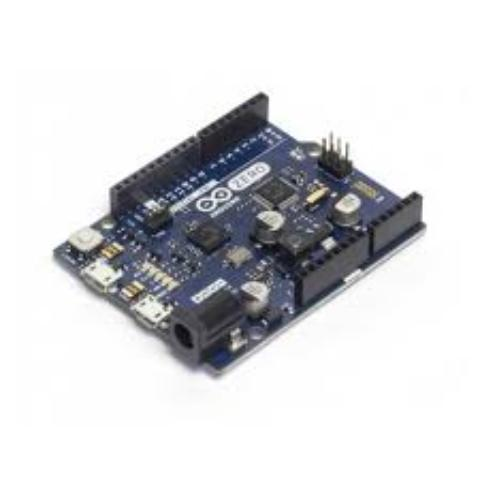Arduino-Zero: (28, 62, 450, 407)
